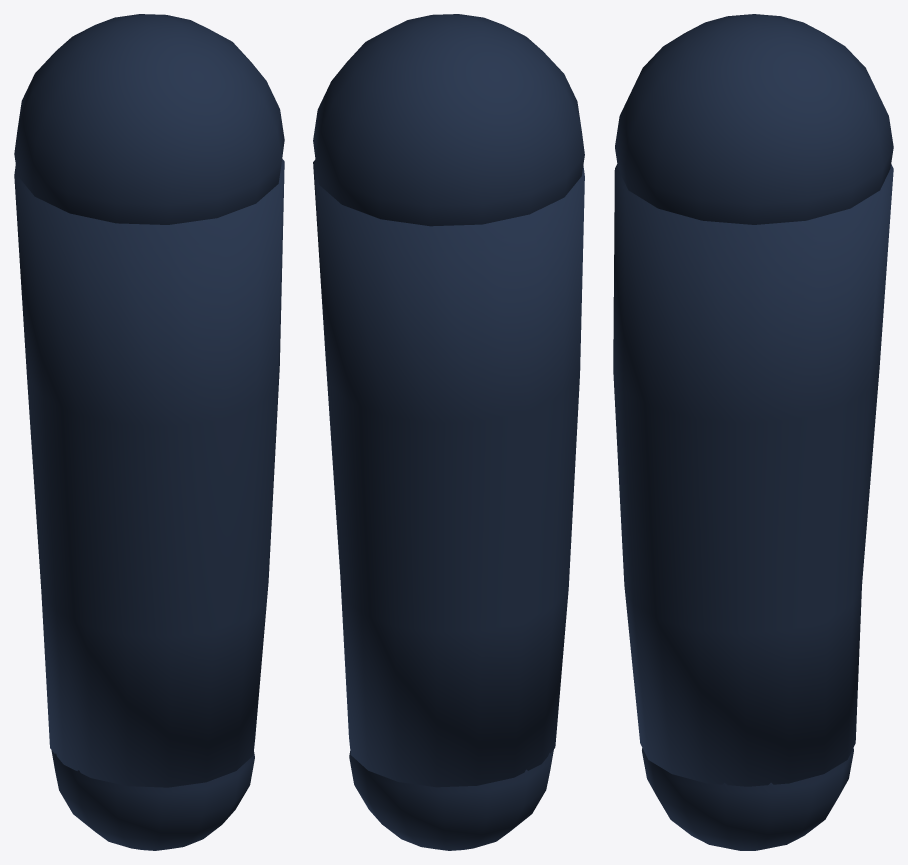
File: coder_thigh_r.glb
3 renders of one model, left to right at view 1: azimuth 30°, elevation 25°; view 2: azimuth 150°, elevation 25°; view 3: azimuth 270°, elevation 25°, orthographic.
Visible parts, largest first — view 1: CoderPart; view 2: CoderPart; view 3: CoderPart.
Part boxes in pixels (bbox=[...]): CoderPart: bbox=[14, 14, 284, 850]; CoderPart: bbox=[313, 14, 584, 850]; CoderPart: bbox=[613, 14, 893, 850].
Size of the model in its own units: 0.172 by 0.568 by 0.177.
